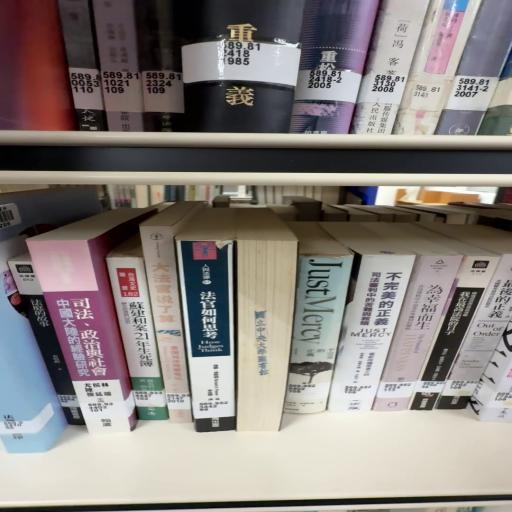backward: (235, 209, 299, 433)
book: (32, 205, 180, 438), (286, 257, 360, 428), (182, 240, 240, 436), (106, 256, 169, 428)
